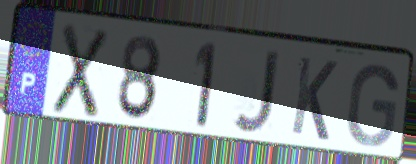1: (192, 40, 219, 133)
8: (114, 33, 164, 123)
G: (344, 62, 401, 150)
J: (230, 49, 283, 137)
K: (288, 53, 340, 145)
X: (49, 20, 112, 122)
